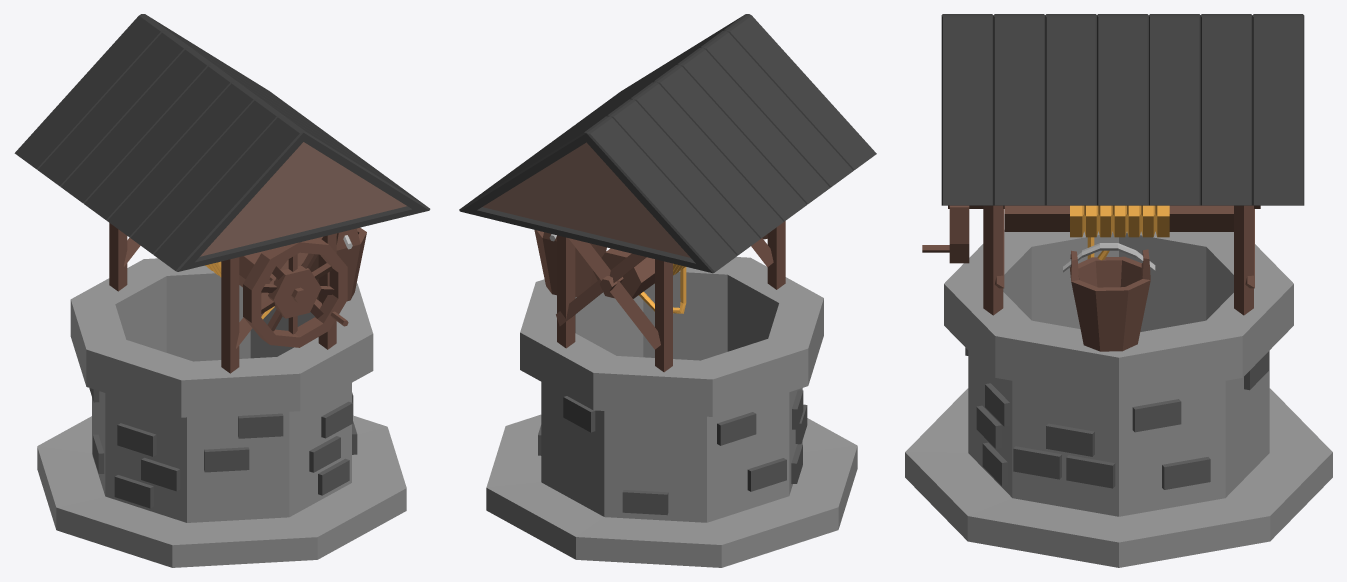
Rendered from Well1.FBX.
3 views of the same model, side by side, from view 1: azimuth 30°, elevation 25°; view 2: azimuth 150°, elevation 25°; view 3: azimuth 270°, elevation 25° (orthographic). The views are drawn at different scales.
Visible parts, largest first — view 1: Well1; view 2: Well1; view 3: Well1.
Boxes of the visible parts, x1=… form: Well1: x1=14, y1=14, x2=430, y2=567; Well1: x1=459, y1=14, x2=876, y2=567; Well1: x1=905, y1=14, x2=1332, y2=567.
Size of the model in its own units: 243 by 291 by 243.
